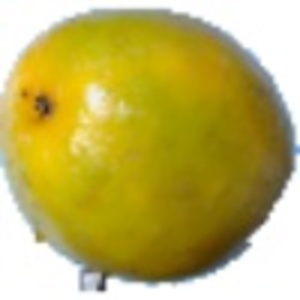maracujá: (1, 7, 300, 294)
